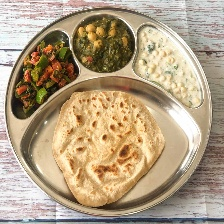roti: (52, 88, 166, 207)
